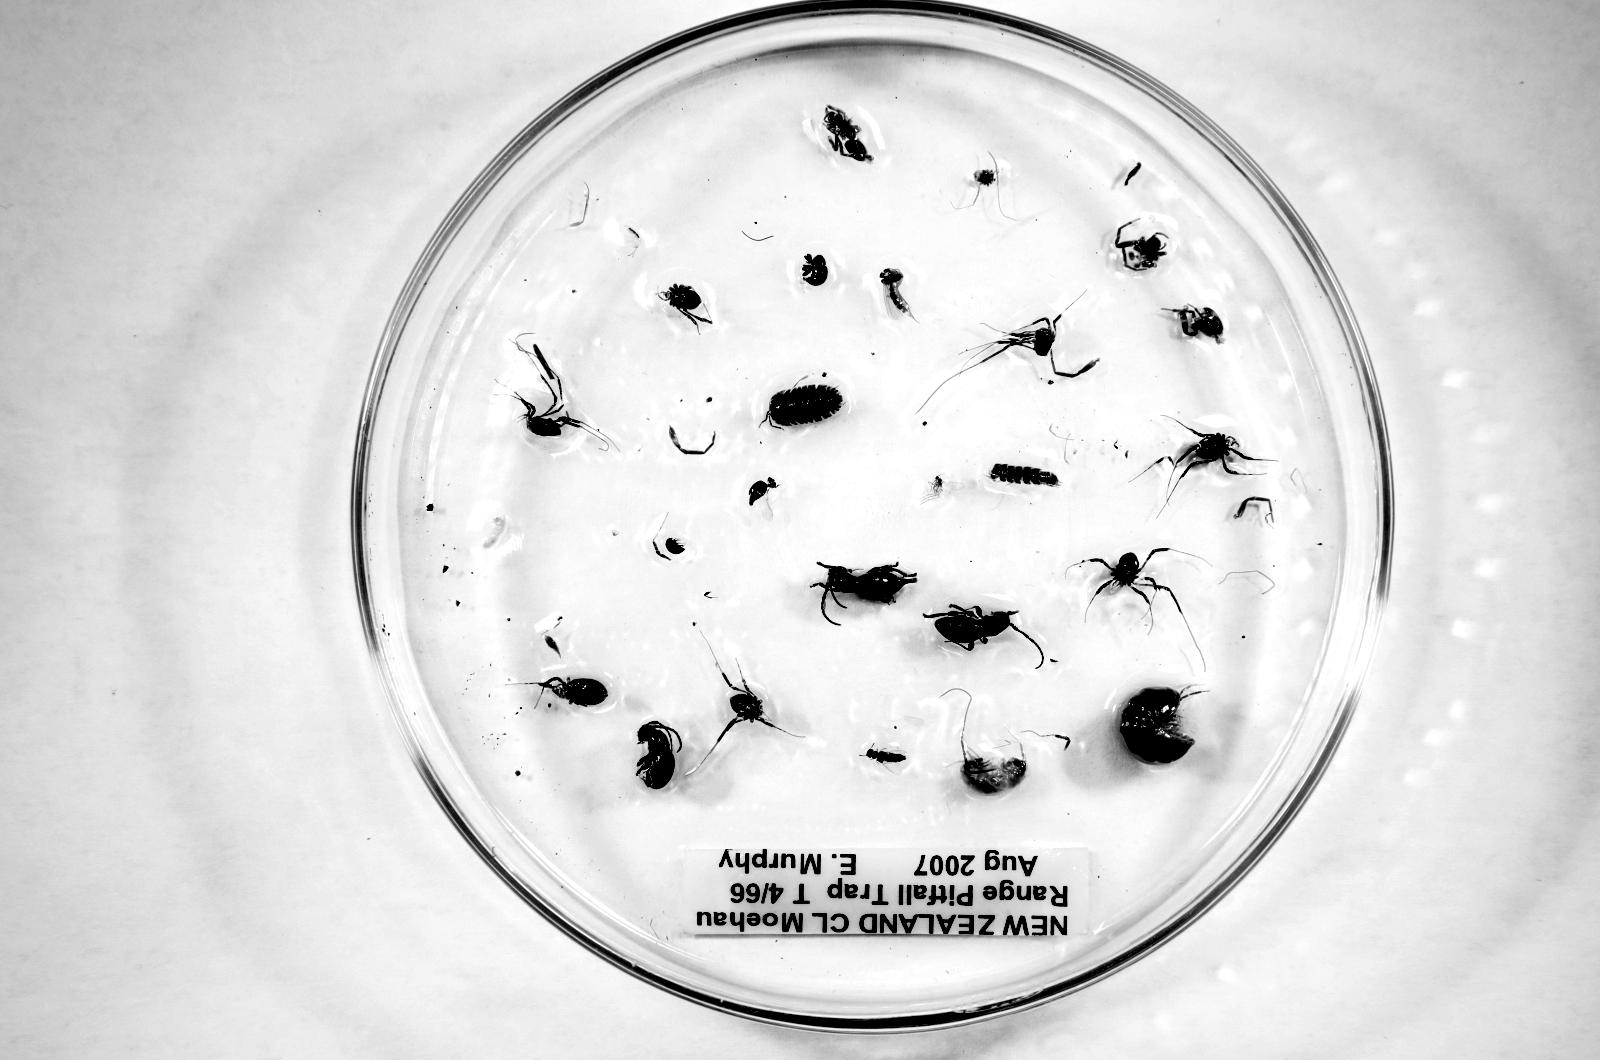araneae: (823, 105, 874, 162)
coleoptera: (811, 563, 916, 625), (926, 606, 1017, 651), (637, 720, 681, 788), (802, 254, 828, 286), (864, 746, 906, 764), (663, 537, 686, 558)
diptera: (920, 476, 965, 503)
isopoda: (1120, 689, 1194, 764), (767, 384, 843, 426)
opiliones: (511, 337, 616, 450), (1149, 416, 1276, 491), (960, 315, 1100, 379), (1082, 548, 1181, 615), (713, 674, 785, 750), (961, 749, 1026, 794), (656, 283, 713, 328), (537, 677, 608, 706)
